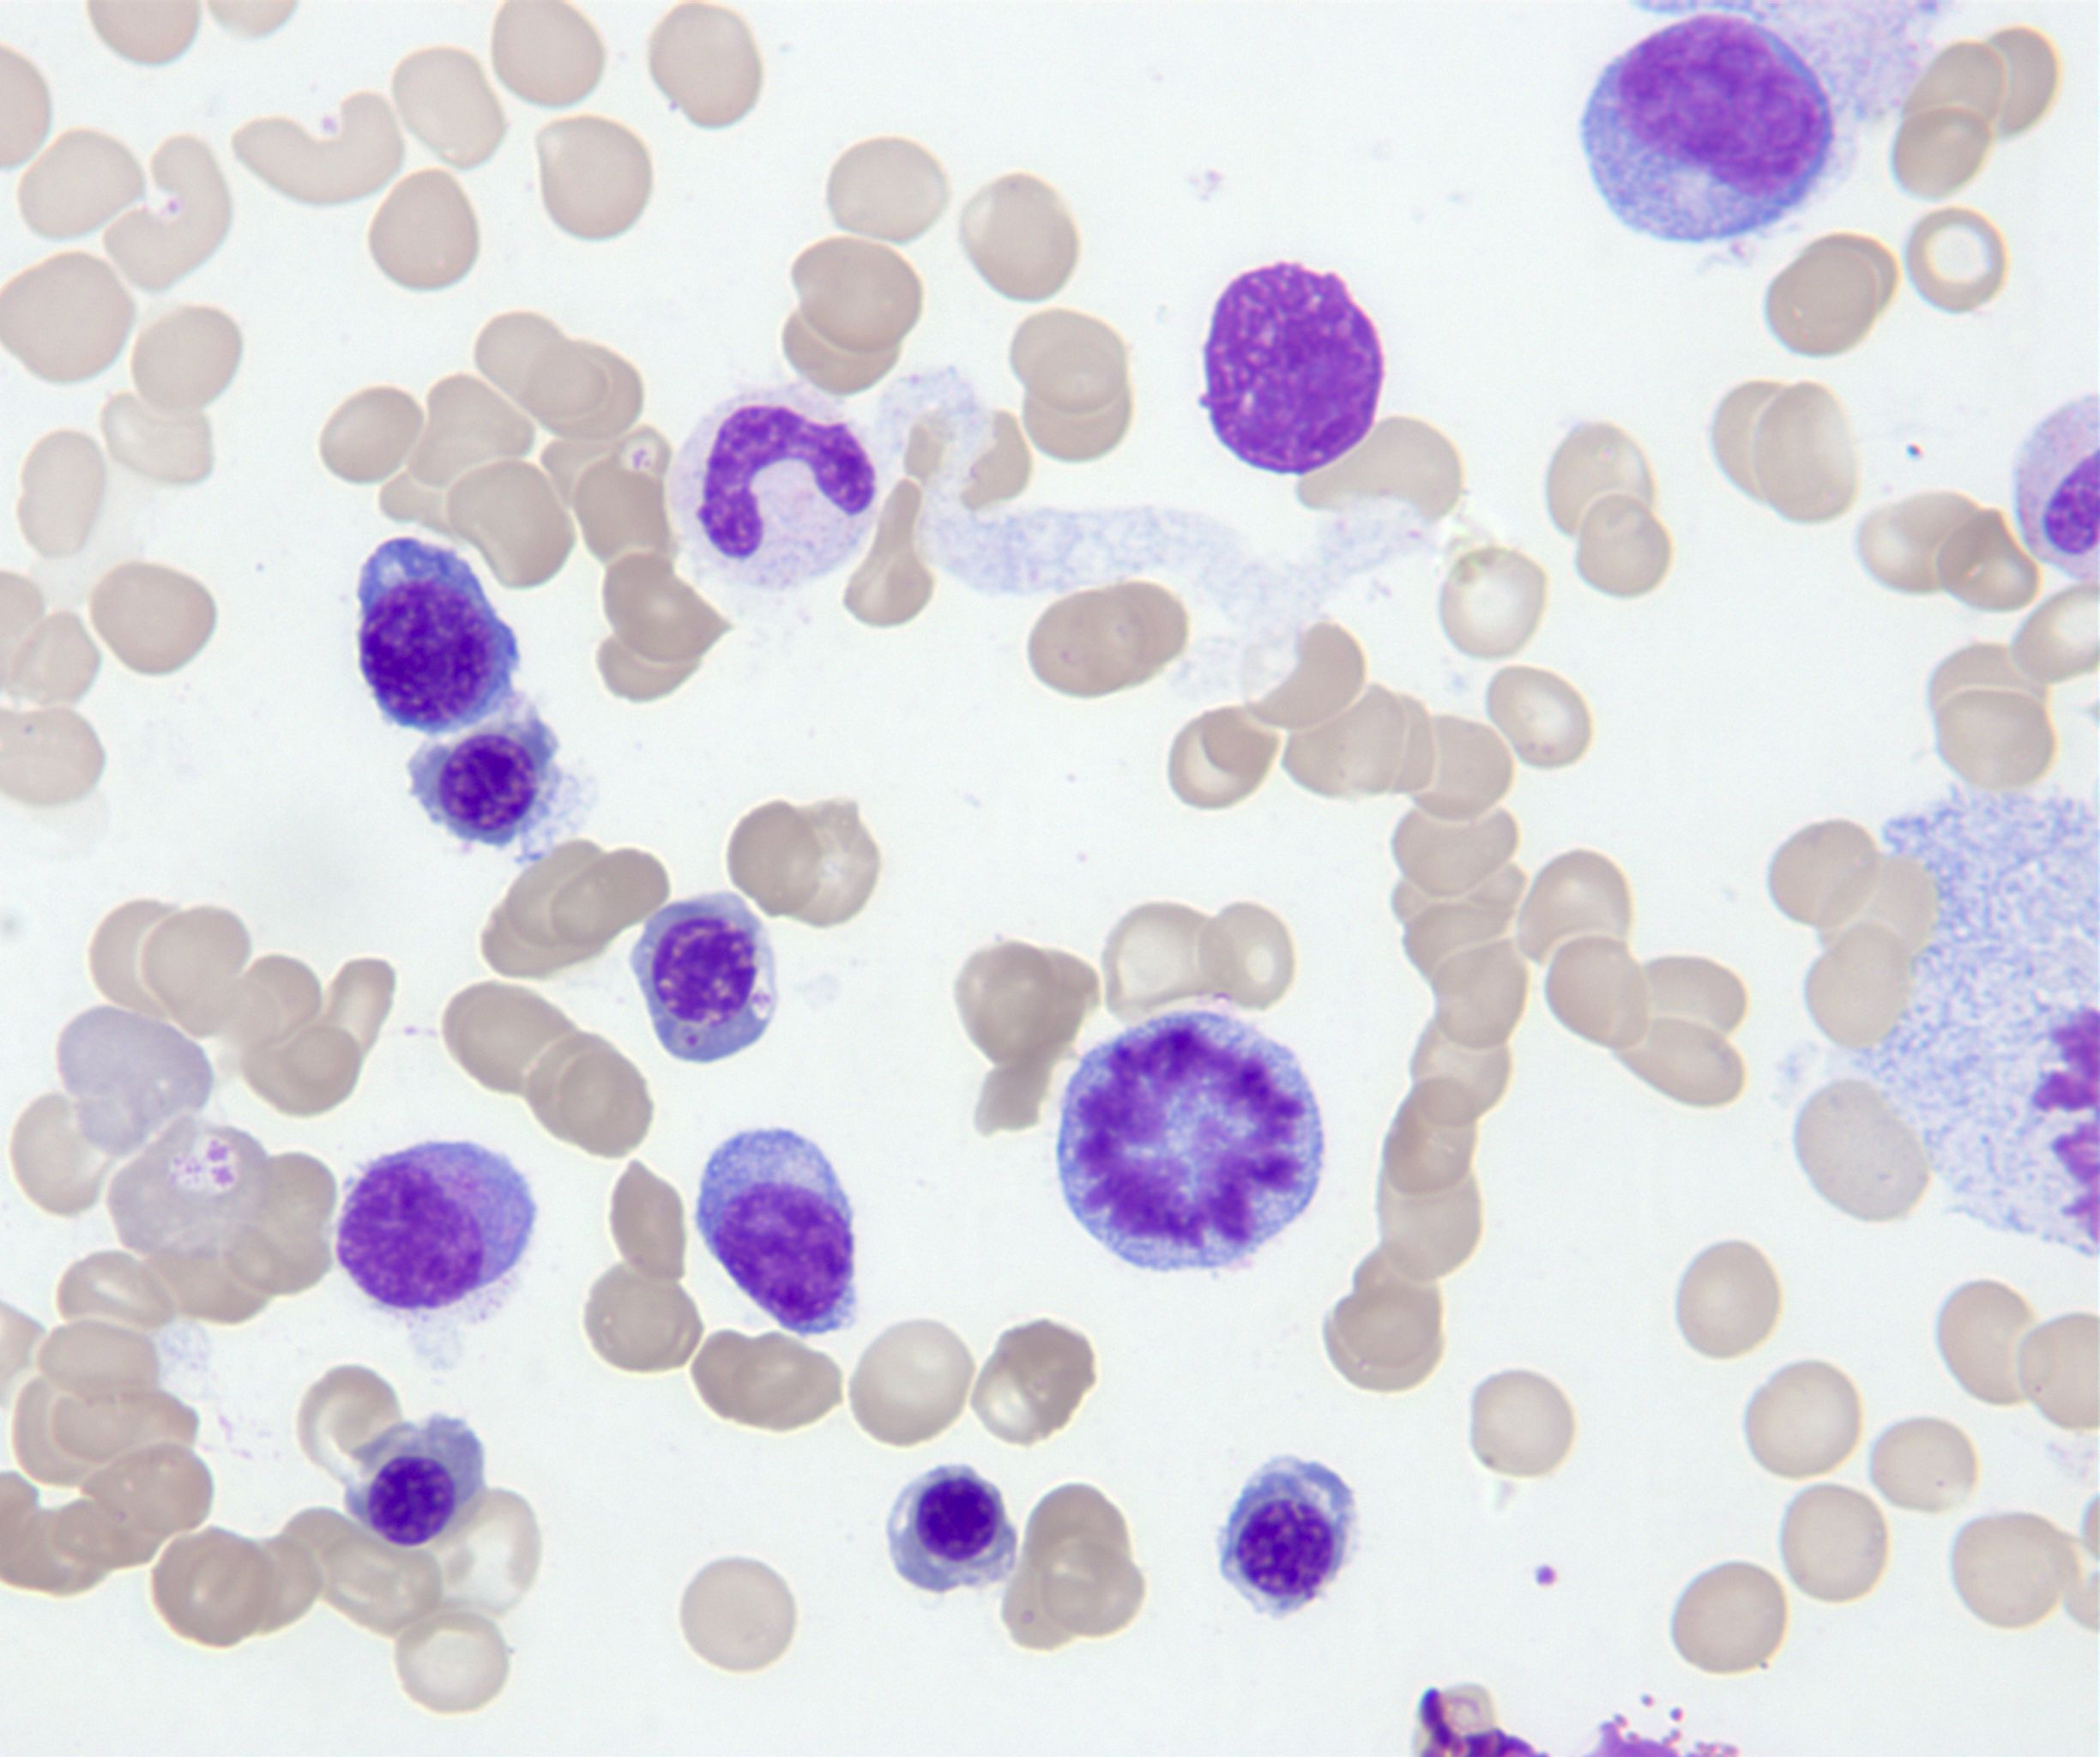1: (698, 1131, 855, 1335)
2: (1584, 17, 1831, 241)
23: (358, 536, 520, 733)
24: (405, 705, 590, 865), (630, 892, 776, 1064), (1223, 1452, 1352, 1619), (342, 1413, 483, 1546), (888, 1466, 1017, 1595)
4: (335, 1139, 534, 1310)
5: (663, 393, 876, 588)
x: (1060, 1010, 1322, 1272), (1202, 262, 1383, 476), (2015, 391, 2100, 590)
